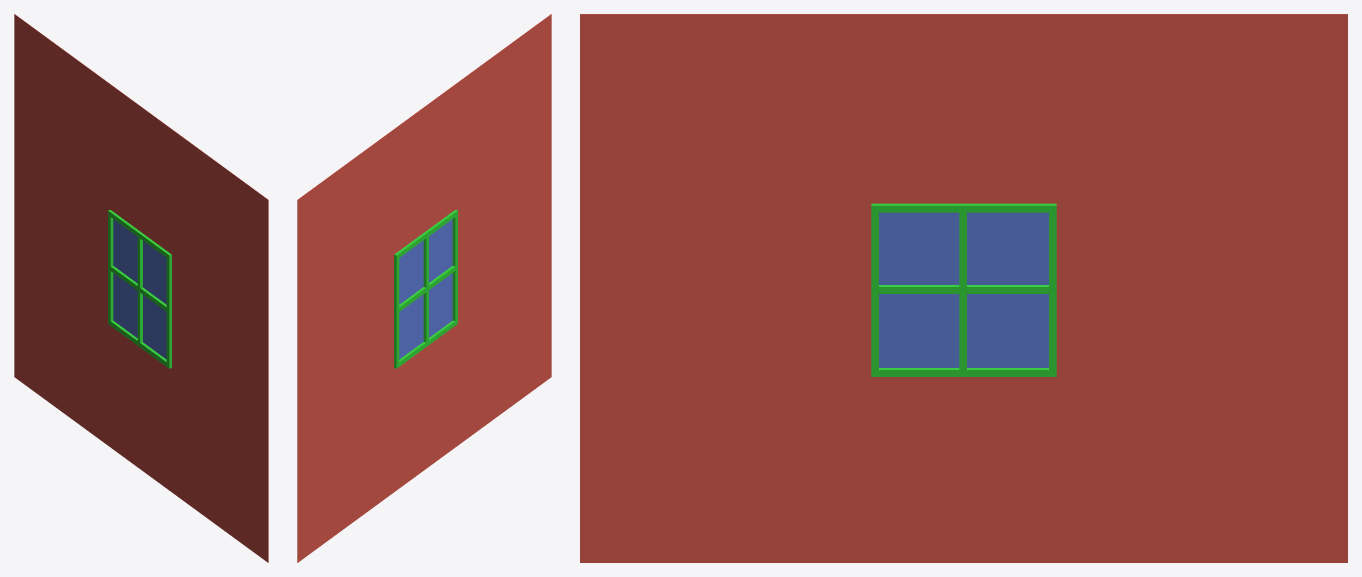
The model's file is wallandwindows.fbx.
3 renders of one model, left to right at view 1: azimuth 30°, elevation 25°; view 2: azimuth 150°, elevation 25°; view 3: azimuth 270°, elevation 25°, orthographic. The views are drawn at different scales.
Parts seen in each view (by area): view 1: Cube.007, Cube.006, Cube.001; view 2: Cube.007, Cube.006, Cube.001; view 3: Cube.007, Cube.006, Cube.001.
Boxes of the visible parts, box(x1,y1,x2,y2) form: Cube.007: box(14, 14, 268, 562); Cube.006: box(113, 219, 166, 359); Cube.001: box(108, 210, 171, 368); Cube.007: box(297, 14, 551, 562); Cube.006: box(399, 219, 452, 359); Cube.001: box(394, 210, 457, 368); Cube.007: box(580, 14, 1347, 562); Cube.006: box(879, 212, 1048, 367); Cube.001: box(871, 203, 1056, 376).
Bounding box in the file's own units: 10.84 × 654 × 829.
